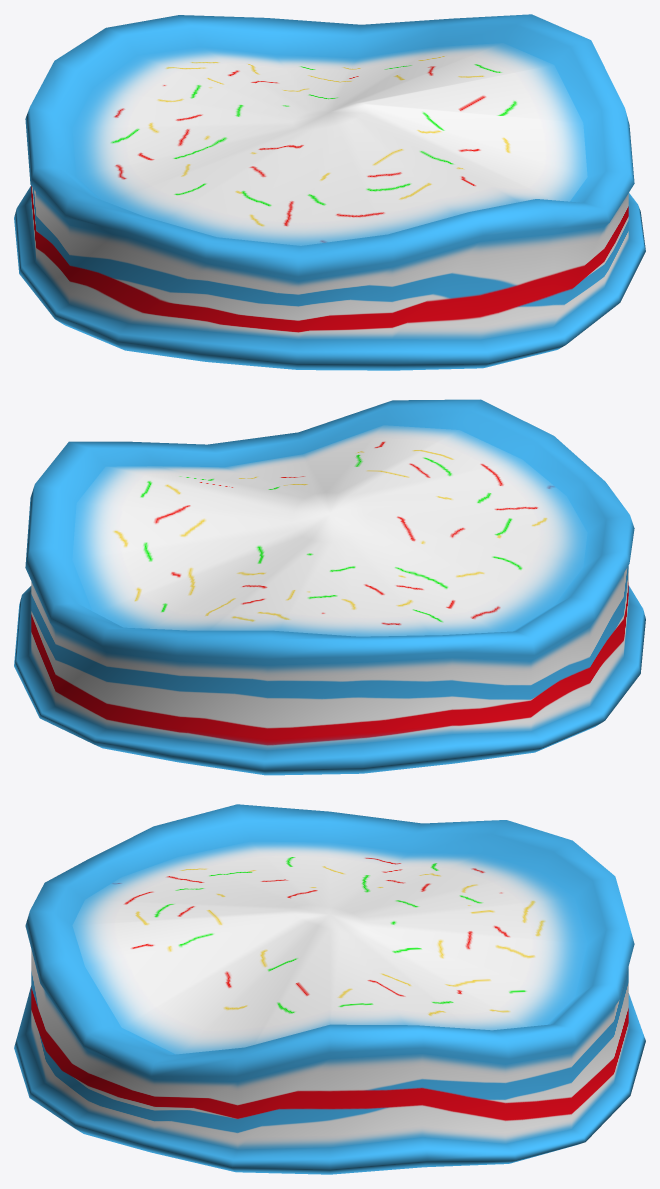
Rendered from splatCake.fbx.
The picture shows the model from 3 angles, top to bottom: view 1: azimuth 30°, elevation 25°; view 2: azimuth 150°, elevation 25°; view 3: azimuth 270°, elevation 25°; orthographic projection.
Parts seen in each view (by area): view 1: cake1; view 2: cake1; view 3: cake1.
Part boxes in pixels (bbox=[...]): cake1: bbox=[14, 14, 645, 370]; cake1: bbox=[14, 399, 645, 775]; cake1: bbox=[14, 804, 645, 1174].
Size of the model in its own units: 2.12 by 0.6028 by 2.12.
